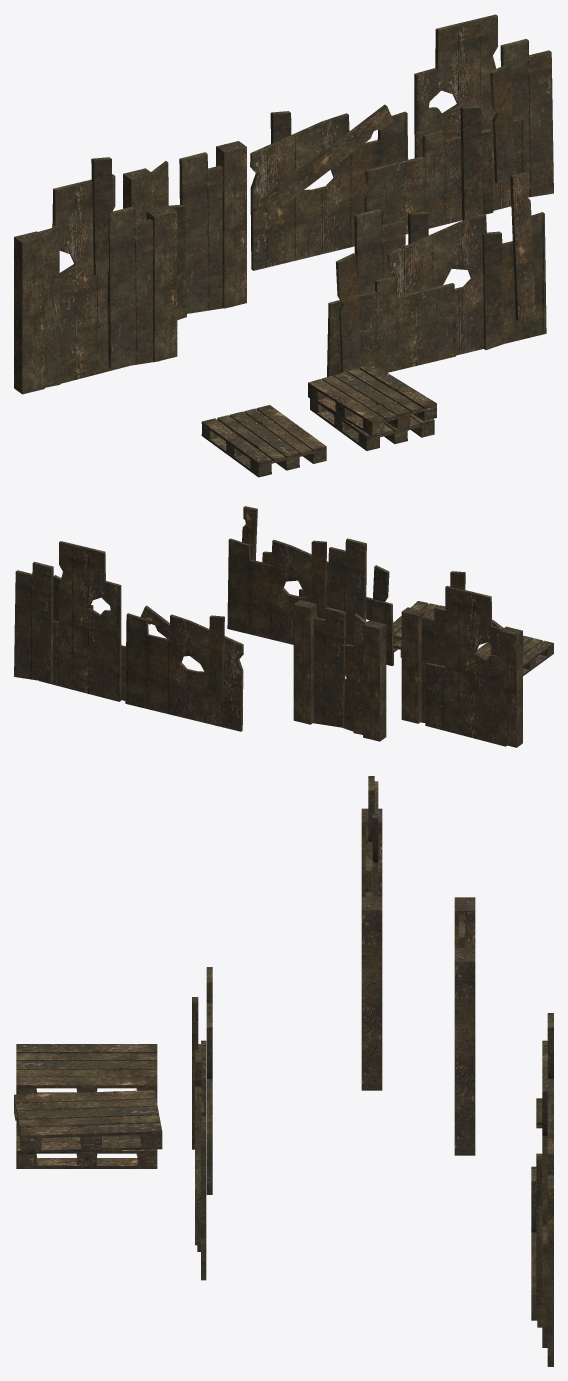
File: woodwalls.glb
3 views of the same model, one above another, from view 1: azimuth 30°, elevation 25°; view 2: azimuth 150°, elevation 25°; view 3: azimuth 270°, elevation 25° (orthographic). The views are drawn at different scales.
Visible parts, largest first — view 1: woodwall2, woodwall4, woodwall3, woodwall1, palet2, palet; view 2: woodwall2, woodwall3, woodwall4, woodwall1, palet, palet2; view 3: palet2, palet, woodwall3, woodwall2, woodwall1, woodwall4.
Boxes of the visible parts, box(x1,y1,x2,y2) form: woodwall2: box(250, 14, 553, 270); woodwall4: box(327, 172, 546, 376); woodwall3: box(14, 157, 177, 394); woodwall1: box(123, 141, 246, 320); palet2: box(308, 364, 436, 450); palet: box(201, 405, 326, 477); woodwall2: box(14, 541, 243, 731); woodwall3: box(401, 571, 522, 747); woodwall4: box(227, 506, 393, 665); woodwall1: box(293, 600, 386, 741); palet: box(476, 635, 553, 675); palet2: box(393, 601, 445, 657); palet2: box(14, 1090, 162, 1168); palet: box(16, 1044, 157, 1102); woodwall3: box(361, 776, 382, 1090); woodwall2: box(531, 1013, 553, 1366); woodwall1: box(454, 897, 475, 1155); woodwall4: box(192, 967, 212, 1280).
Size of the model in its own units: 1987 by 685 by 1233.
1 material, 1 textured.
